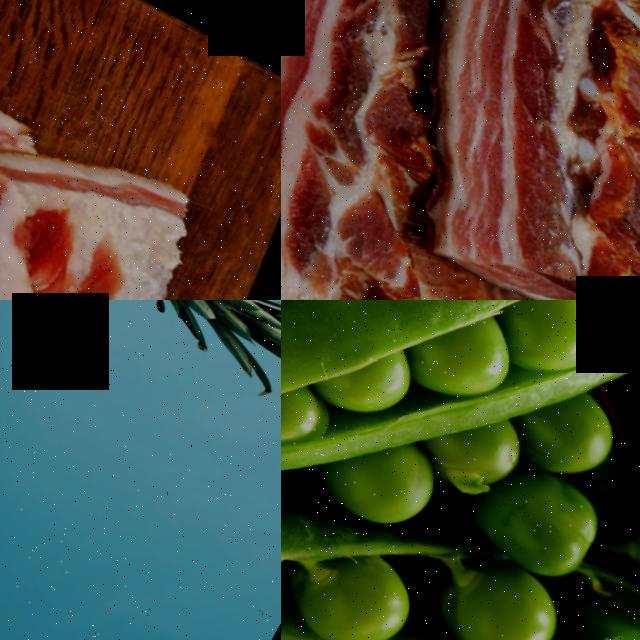peas: (288, 300, 640, 532), (281, 452, 640, 640)
pork belly: (363, 0, 640, 300), (281, 109, 572, 300), (0, 84, 257, 300), (281, 0, 551, 199), (0, 3, 80, 300)
